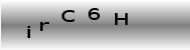6: (87, 6, 101, 21)
C: (60, 8, 77, 23)
H: (113, 10, 128, 27)
i: (25, 25, 32, 39)
r: (38, 20, 51, 32)
